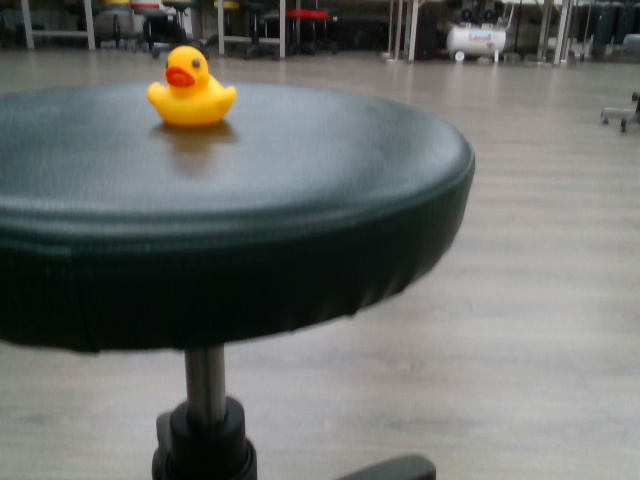duck: (142, 45, 241, 127)
